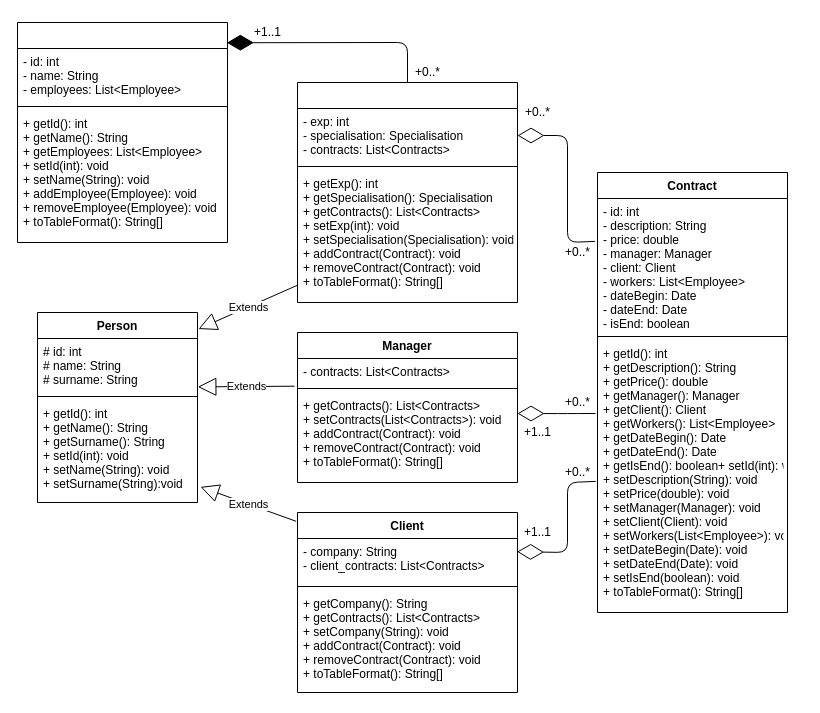
The diagram is 820 pixels wide and 713 high, and some of its shapes have lost their labels. The box of each missing label's shape, as (x1, y1, x2, y2) in pixels:
Employee: (296, 82, 518, 302)
Specialisation: (16, 22, 228, 242)
